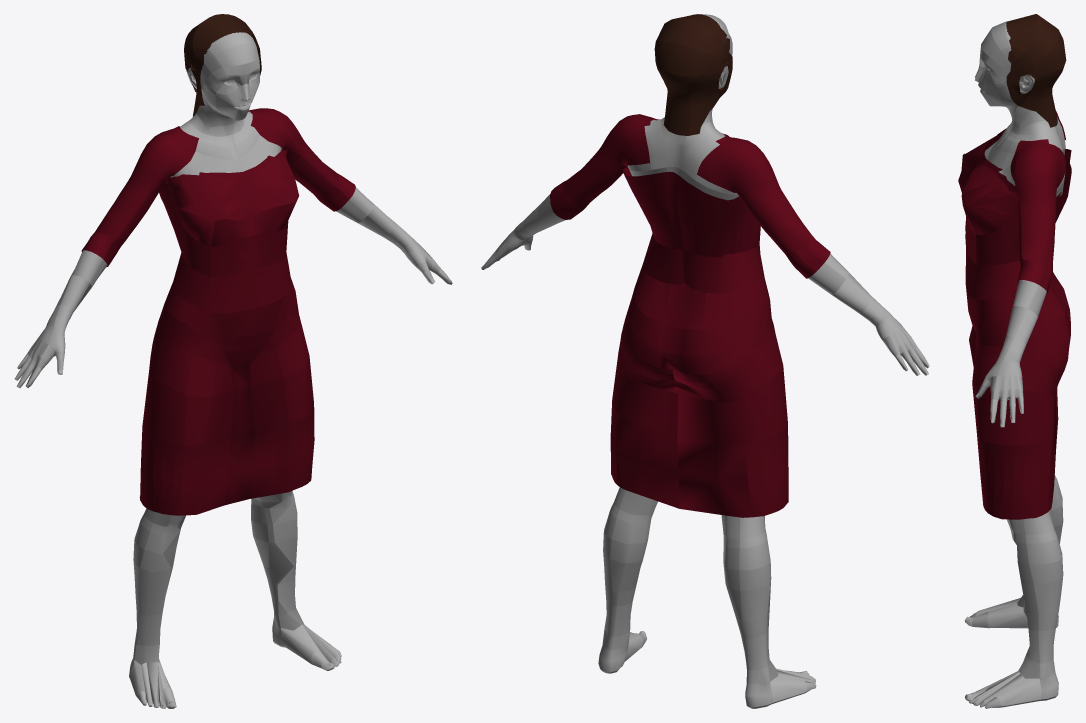
File: char_Sadie.fbx
3 views of the same model, side by side, from view 1: azimuth 30°, elevation 25°; view 2: azimuth 150°, elevation 25°; view 3: azimuth 270°, elevation 25° (orthographic). The views are drawn at different scales.
Visible parts, largest first — view 1: pasted__DressMiddle, Dress, pasted__DressRight, pasted__DressLeft, Hair; view 2: pasted__DressMiddle, Dress, Hair, pasted__DressRight, pasted__DressLeft; view 3: pasted__DressMiddle, Dress, pasted__DressLeft, Hair.
Part boxes in pixels (x1,y1,x2,y2): pasted__DressMiddle: (139, 149, 314, 515); Dress: (14, 32, 452, 708); pasted__DressRight: (81, 126, 198, 267); pasted__DressLeft: (248, 108, 355, 211); Hair: (184, 14, 261, 116); pasted__DressMiddle: (610, 166, 788, 517); Dress: (481, 14, 929, 708); Hair: (654, 14, 732, 135); pasted__DressRight: (697, 134, 830, 278); pasted__DressLeft: (550, 114, 659, 219); pasted__DressMiddle: (958, 128, 1071, 519); Dress: (965, 21, 1065, 708); pasted__DressLeft: (1010, 139, 1066, 294); Hair: (1006, 14, 1066, 127).
Bounding box in the file's own units: 1.18 × 1.69 × 0.2693.
